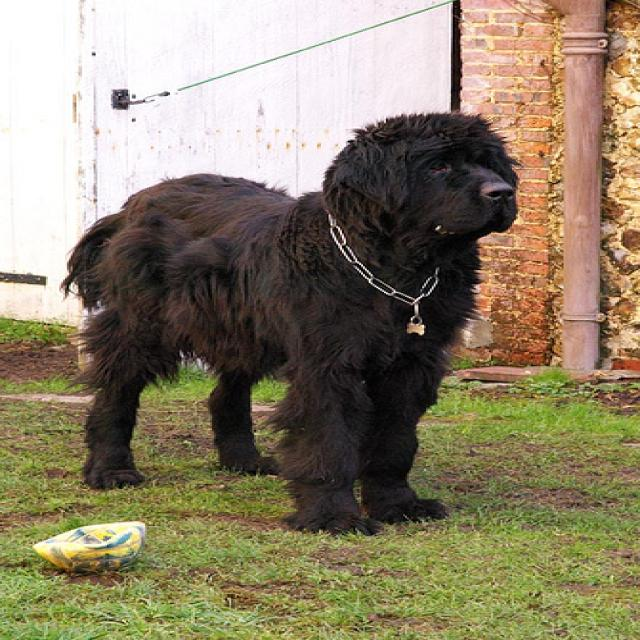dog-newfoundland: (42, 105, 535, 534)
